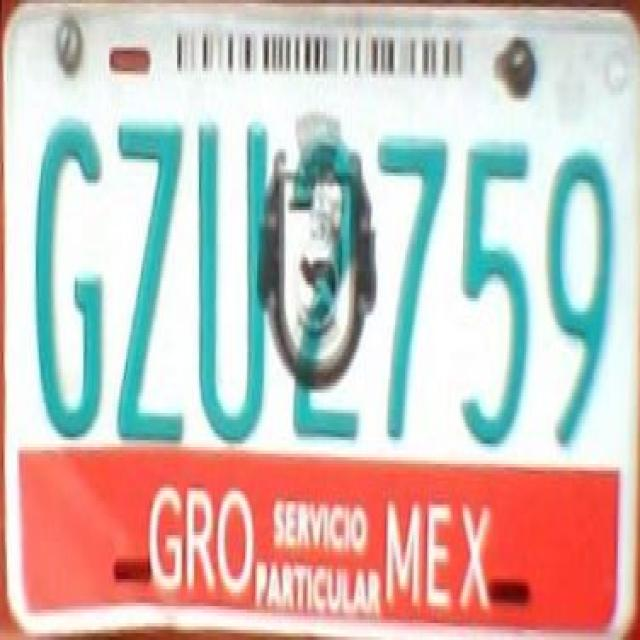placa: (4, 92, 634, 462)
